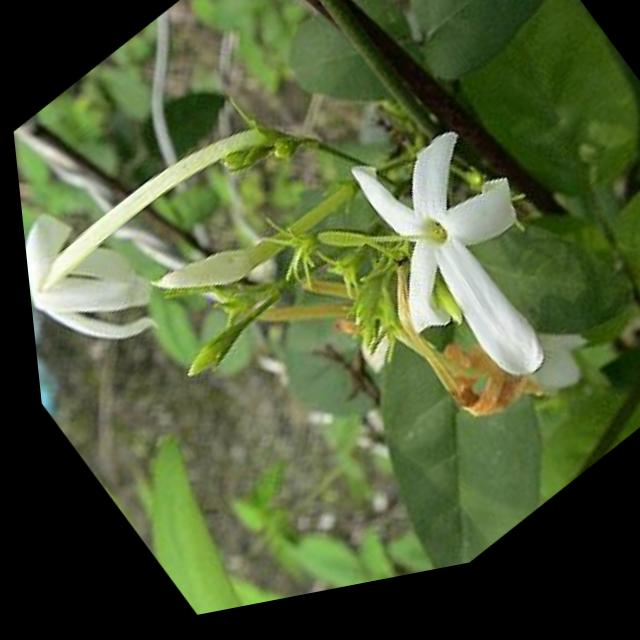Flower: (267, 85, 610, 483), (7, 39, 349, 380)
